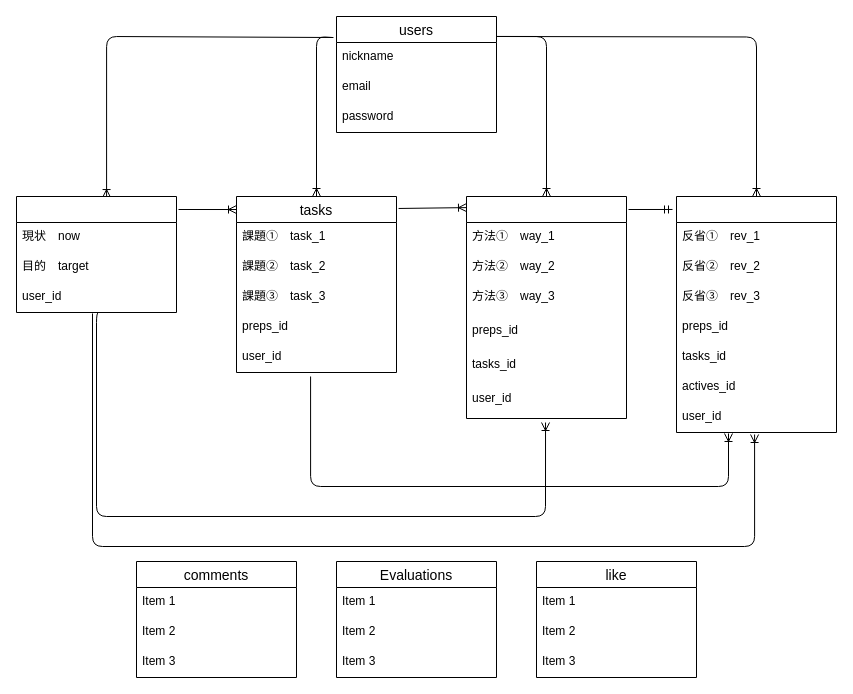
Some shapes in this 853 by 694 pixel diagram are drawn without their labels. Each missing label, with the box of its shape:
acitives: (466, 196, 626, 418)
preps: (16, 196, 176, 312)
reviews: (676, 196, 836, 432)
